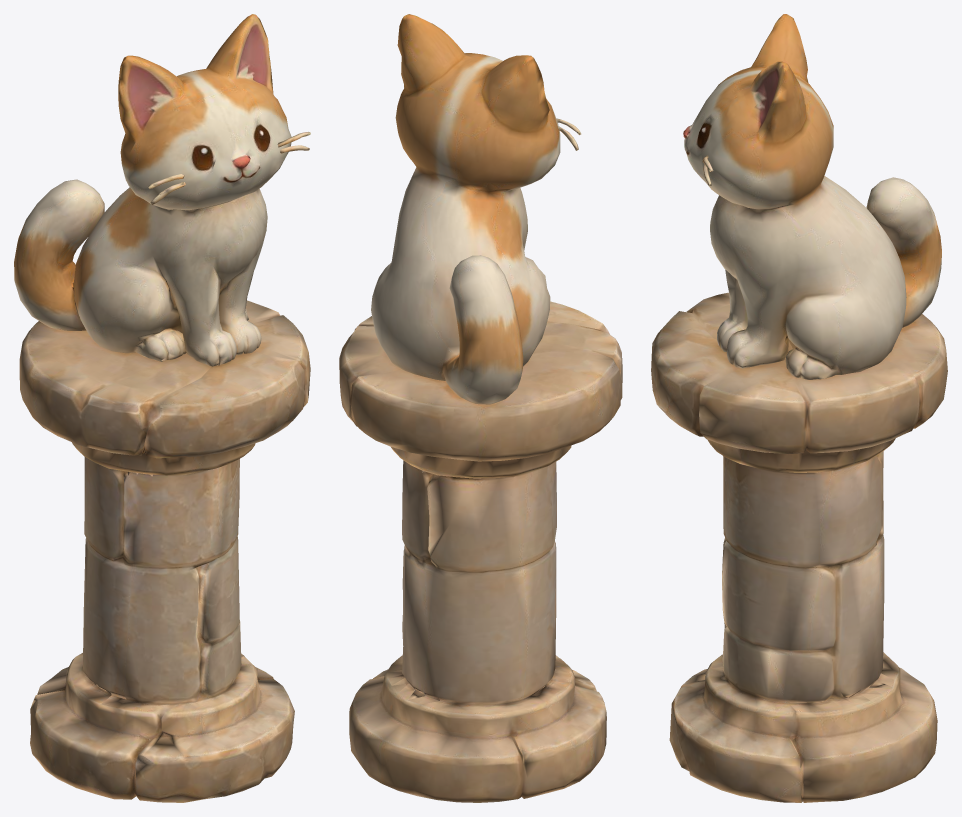
File: cat_statue_pedestal.glb
The picture shows the model from 3 angles, left to right: view 1: azimuth 30°, elevation 25°; view 2: azimuth 150°, elevation 25°; view 3: azimuth 270°, elevation 25°; orthographic projection. The views are drawn at different scales.
Parts seen in each view (by area): view 1: cat_statue_pedestal; view 2: cat_statue_pedestal; view 3: cat_statue_pedestal.
Boxes of the visible parts, x1,y1,x2,y2 form: cat_statue_pedestal: [14, 14, 310, 802]; cat_statue_pedestal: [339, 14, 622, 802]; cat_statue_pedestal: [651, 14, 947, 802].
Bounding box in the file's own units: 0.2732 × 0.75 × 0.2759.
1 material, 1 textured.
